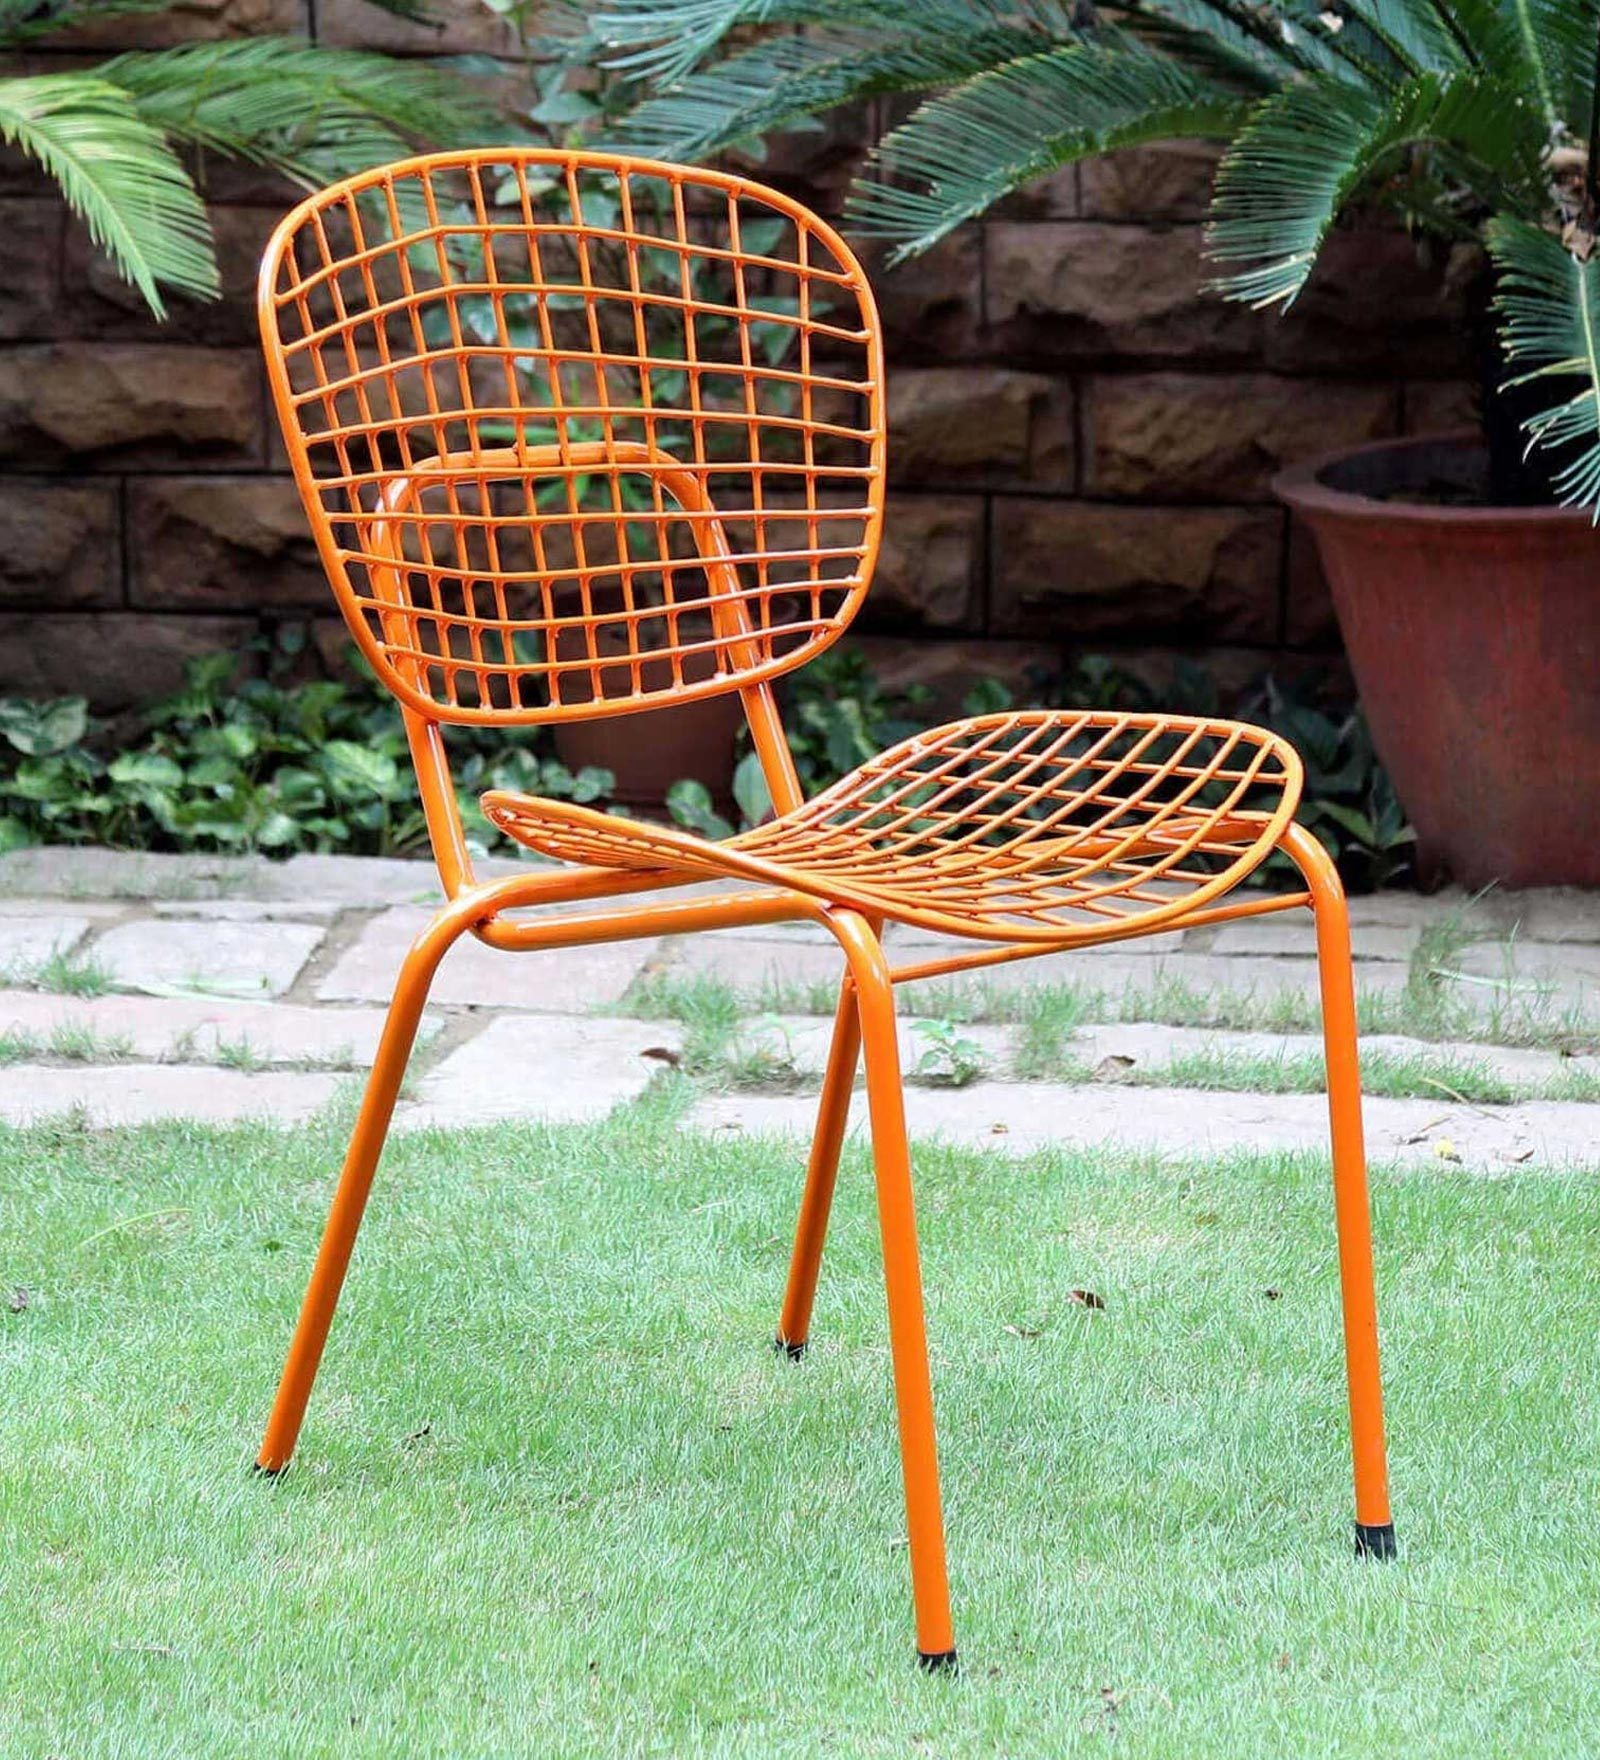Annette Metal Chair in Orange Color by Bohemiana: (202, 133, 1433, 1720)
